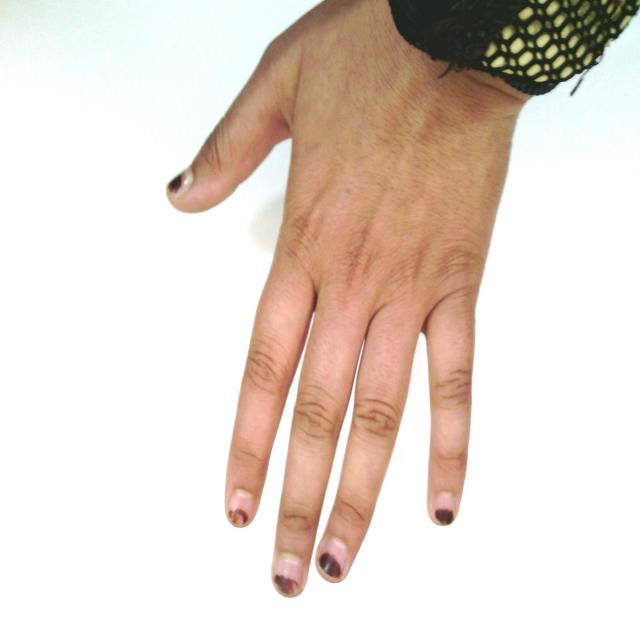others: (8, 1, 589, 600)
